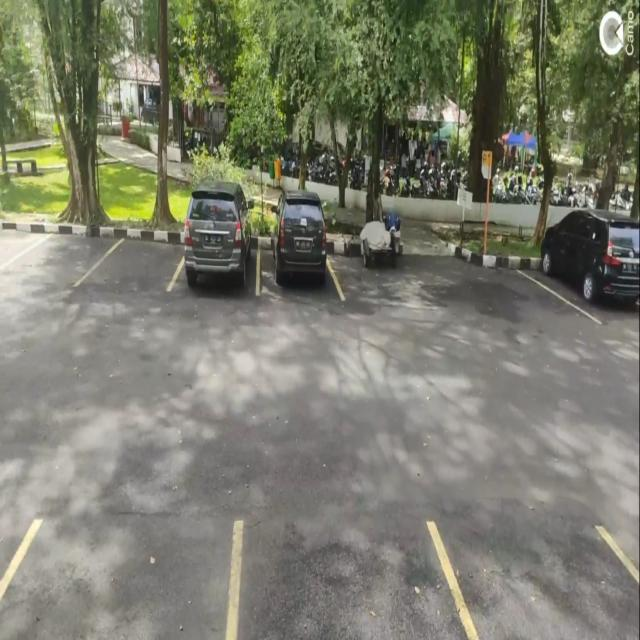empty: (95, 216, 179, 293), (16, 218, 94, 291)
occupied: (541, 226, 640, 315), (179, 195, 259, 292), (256, 201, 336, 295)
